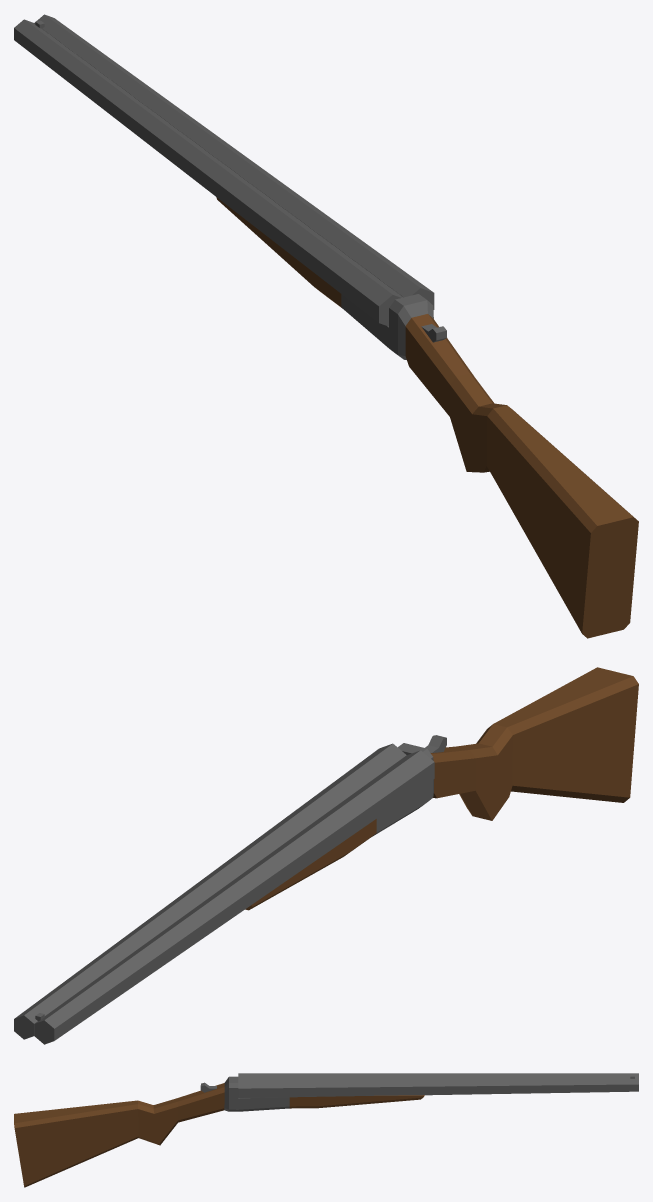
The model's file is Shotgun.glb.
The picture shows the model from 3 angles, top to bottom: view 1: azimuth 30°, elevation 25°; view 2: azimuth 150°, elevation 25°; view 3: azimuth 270°, elevation 25°; orthographic projection. The views are drawn at different scales.
Visible parts, largest first — view 1: Cube, Cube.001; view 2: Cube.001, Cube; view 3: Cube, Cube.001.
Boxes of the visible parts, x1,y1,x2,y2 form: Cube: [341, 294, 638, 638]; Cube.001: [14, 14, 434, 326]; Cube.001: [14, 743, 434, 1044]; Cube: [372, 667, 638, 836]; Cube: [14, 1076, 289, 1187]; Cube.001: [238, 1073, 638, 1108].
Bounding box in the file's own units: 0.2618 × 0.8999 × 4.76.
